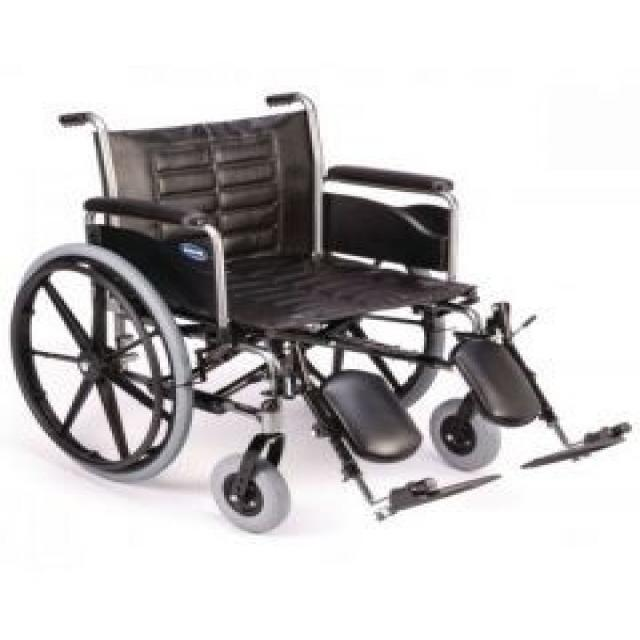wheelchair: (24, 83, 640, 544)
